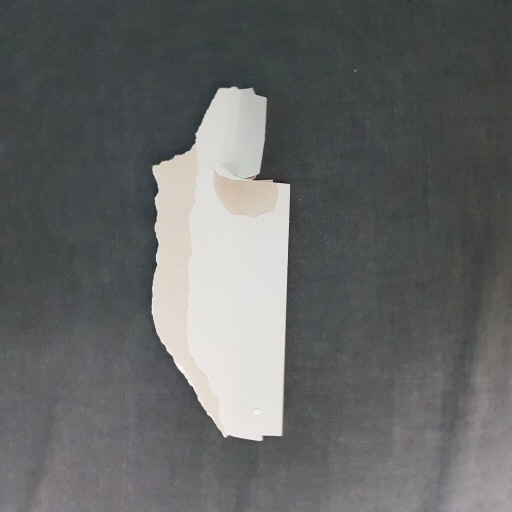Paper_3: (139, 77, 331, 457)
